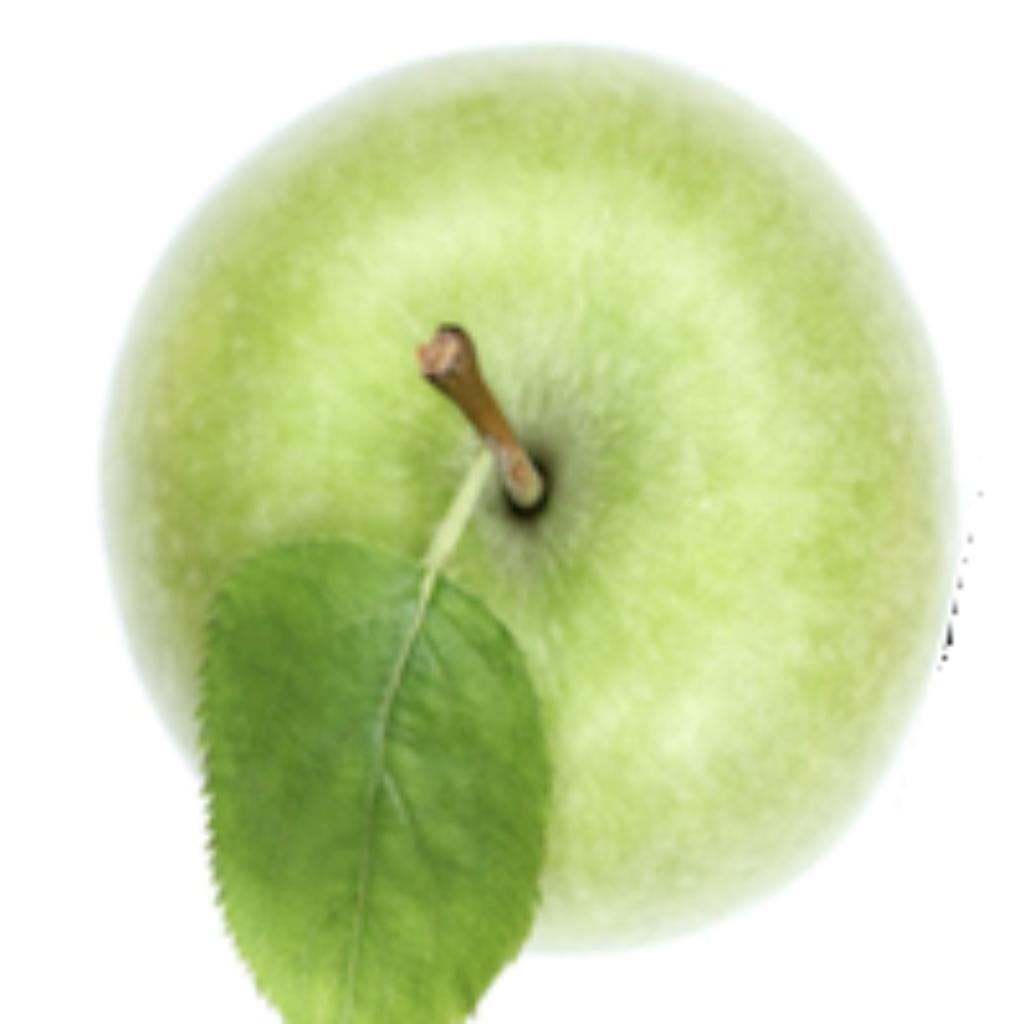apple: (92, 36, 973, 1019)
